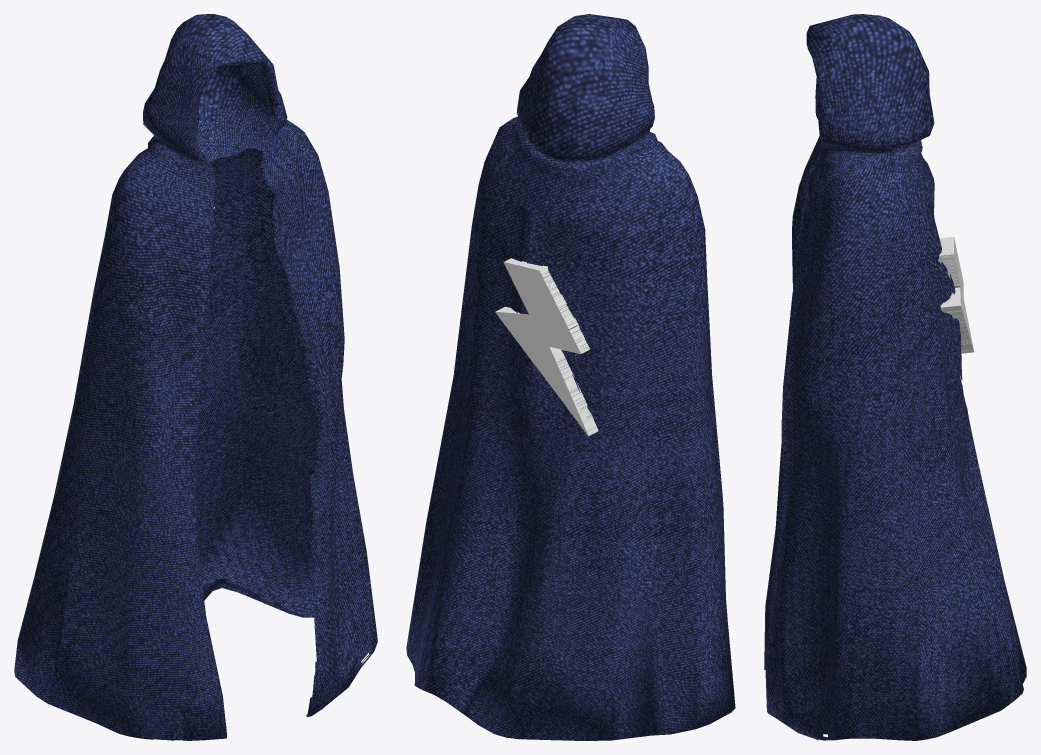
Rendered from wizard.fbx.
3 renders of one model, left to right at view 1: azimuth 30°, elevation 25°; view 2: azimuth 150°, elevation 25°; view 3: azimuth 270°, elevation 25°, orthographic.
Visible parts, largest first — view 1: Object002_03 - Default_0; view 2: Object002_03 - Default_0; view 3: Object002_03 - Default_0.
Part boxes in pixels (left/top/right/bottom): Object002_03 - Default_0: left=14, top=14, right=377, bottom=740; Object002_03 - Default_0: left=406, top=14, right=735, bottom=740; Object002_03 - Default_0: left=764, top=14, right=1026, bottom=740.
Size of the model in its own units: 19.28 by 38.62 by 13.69.
